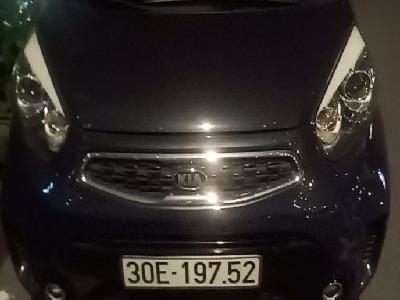car: (120, 253, 260, 289)
